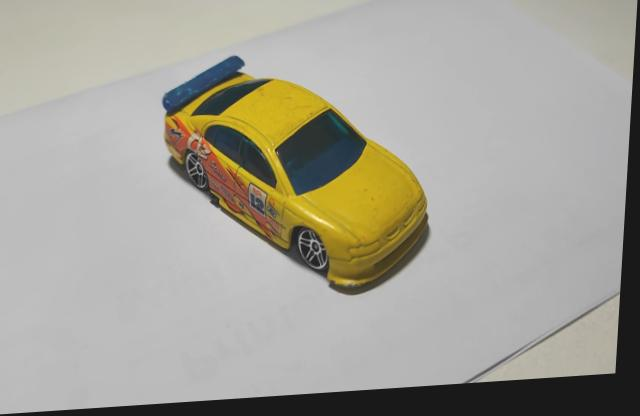02_OZSOME: (162, 61, 434, 302)
